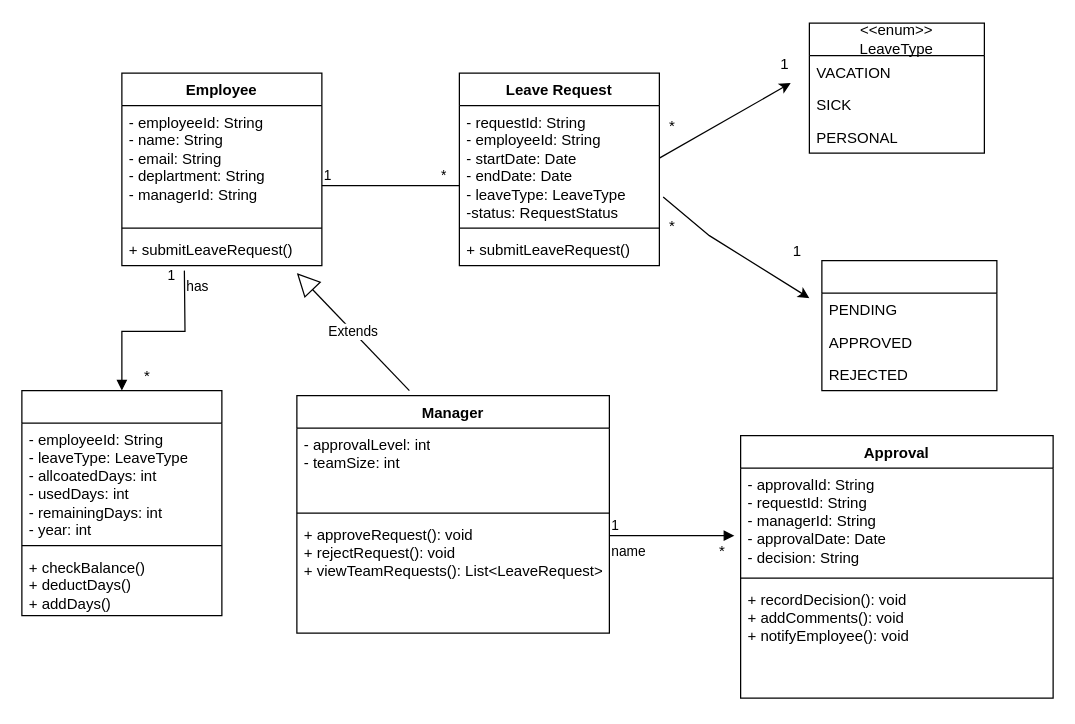
Some shapes in this 1075 by 724 pixel diagram are drawn without their labels. Each missing label, with the box of its shape:
<<enum>> RequestStatus: (821, 259, 997, 391)
Leave Balance: (21, 389, 222, 616)
